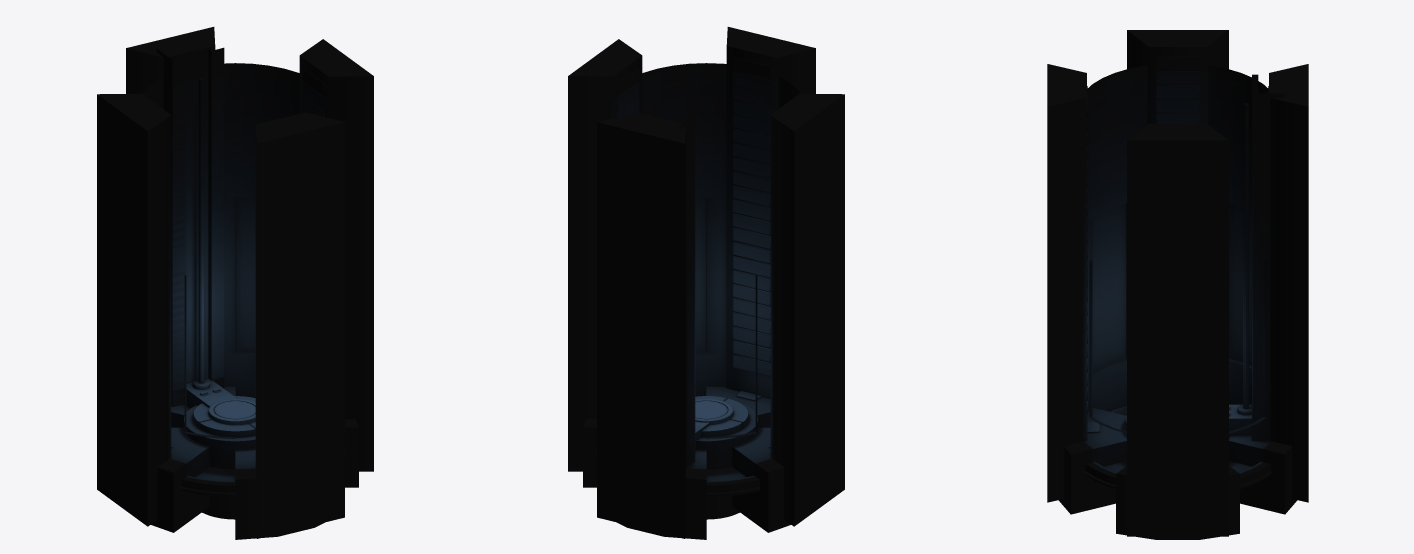
Rendered from engine.glb.
3 renders of one model, left to right at view 1: azimuth 30°, elevation 25°; view 2: azimuth 150°, elevation 25°; view 3: azimuth 270°, elevation 25°, orthographic.
Parts seen in each view (by area): view 1: engine; view 2: engine; view 3: engine.
Part boxes in pixels (x1,y1,x2,y2): engine: (97, 27, 373, 539); engine: (568, 27, 844, 539); engine: (1047, 30, 1308, 539).
Size of the model in its own units: 2 by 2.1 by 2.
Materials: 1 (1 with a texture image).
